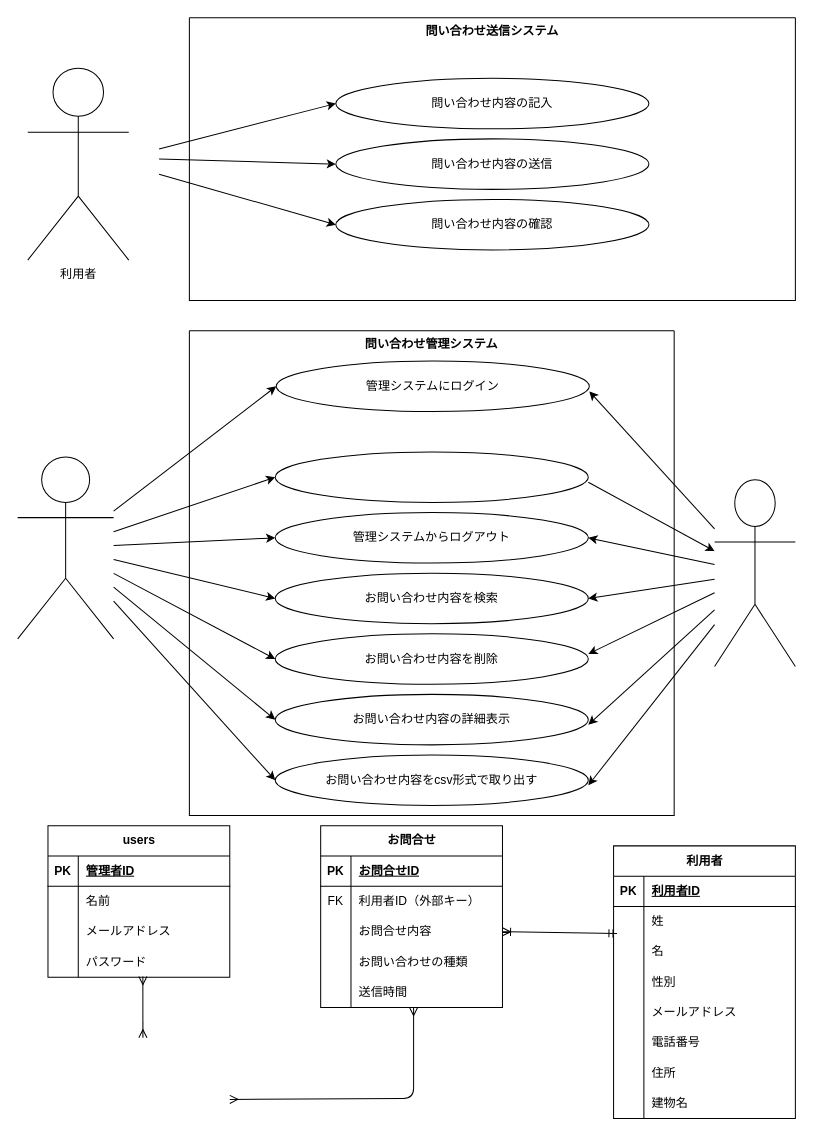
Image size: 813x1136. Some labels were removed from this diagram. The centre of each missing label's shape, as x and y in pixels:
新規ユーザーの作成・登録: [431,476]
新規管理者: [754,573]
管理者: [65,547]
